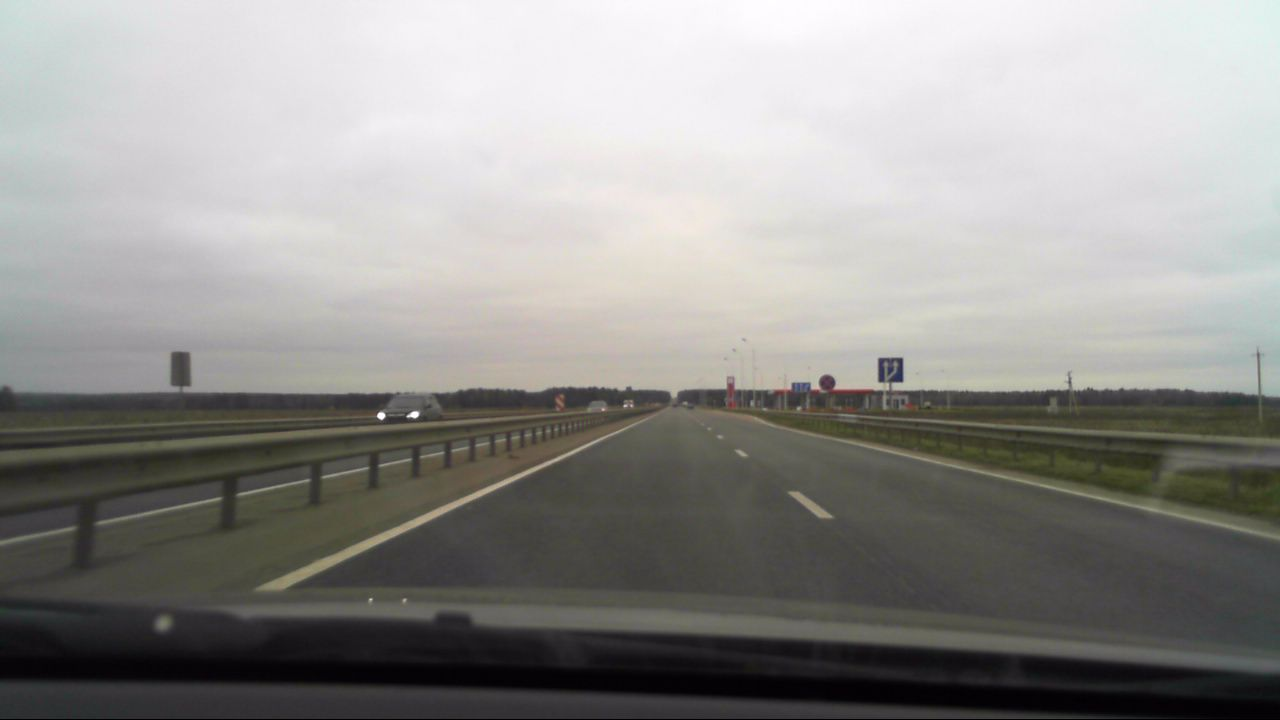No Parking: (815, 372, 836, 393)
